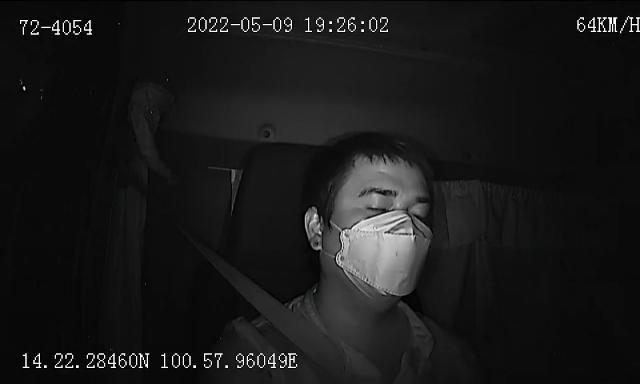SafeDriving: (358, 183, 402, 200)
Seatbelt: (194, 222, 352, 384)
